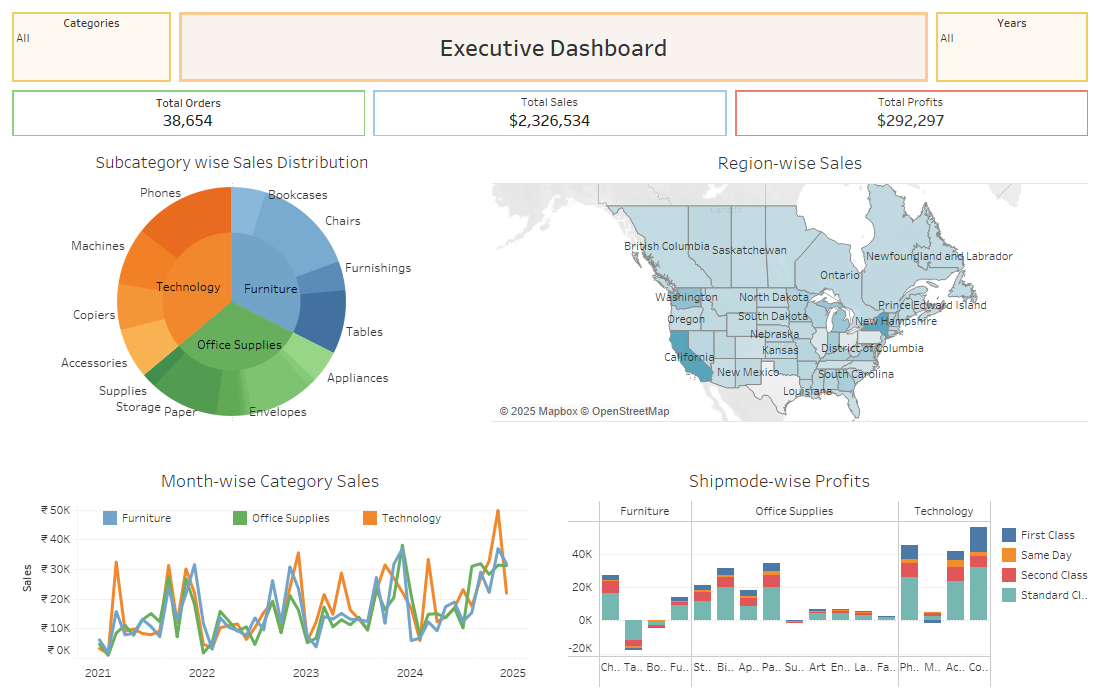

The dashboard page shown, as its layout file describes it:
{"tool":"tableau","page":{"name":"Dashboard 1","canvas":[1100,700],"ordinal":0},"visuals":[{"type":"filter","title":"Line Chart","param":"[federated.1n40d4f0gdi2ua1g24wc20mgtxjn].[none:Category:nk]","box":[8,8,167,78]},{"type":"text","box":[175,8,757,78]},{"type":"filter","title":"Line Chart","param":"[federated.1n40d4f0gdi2ua1g24wc20mgtxjn].[yr:Order Date:ok]","box":[931.9,8,160.1,78]},{"type":"worksheet","title":"Total Units","mark":"Automatic","box":[8,86,361.3,54]},{"type":"worksheet","title":"Total Sales","mark":"Automatic","box":[369.3,86,361.3,54]},{"type":"worksheet","title":"Total Profits","mark":"Automatic","box":[730.7,86,361.3,54]},{"type":"worksheet","title":"Sunburst Cat&SubCat ","mark":"Pie","cols":["Calculation_1321525042463481857","Calculation_1321525042463481857"],"box":[8,140,448,286]},{"type":"blank","box":[456,140,32,286]},{"type":"worksheet","title":"Filled Map","mark":"Automatic","box":[488,140,604,286]},{"type":"blank","box":[8,426,1084,32]},{"type":"worksheet","title":"Line Chart","mark":"Automatic","rows":["Sales"],"cols":["Order Date"],"box":[8,458,524,234]},{"type":"blank","box":[532,458,32,234]},{"type":"worksheet","title":"Bar Chart","mark":"Automatic","rows":["Profit"],"cols":["Category","Sub-Category"],"box":[564,458,528,234]},{"type":"legend","title":"Line Chart","param":"[federated.1n40d4f0gdi2ua1g24wc20mgtxjn].[none:Category:nk]","box":[100,508,508,23]},{"type":"legend","title":"Bar Chart","param":"[federated.1n40d4f0gdi2ua1g24wc20mgtxjn].[none:Ship Mode:nk]","box":[999,525,93,87]}]}

Visuals, with their boxes in screenshot pixels (x1, y1, x2, y2), scaled from the page's 1100x700 canvas onto the 1100x700 screenshot:
"Line Chart" filter: box=[8, 8, 175, 86]
text: box=[175, 8, 932, 86]
"Line Chart" filter: box=[932, 8, 1092, 86]
"Total Units" worksheet: box=[8, 86, 369, 140]
"Total Sales" worksheet: box=[369, 86, 731, 140]
"Total Profits" worksheet: box=[731, 86, 1092, 140]
"Sunburst Cat&SubCat " worksheet (Pie marks): box=[8, 140, 456, 426]
blank: box=[456, 140, 488, 426]
"Filled Map" worksheet: box=[488, 140, 1092, 426]
blank: box=[8, 426, 1092, 458]
"Line Chart" worksheet: box=[8, 458, 532, 692]
blank: box=[532, 458, 564, 692]
"Bar Chart" worksheet: box=[564, 458, 1092, 692]
"Line Chart" legend: box=[100, 508, 608, 531]
"Bar Chart" legend: box=[999, 525, 1092, 612]
